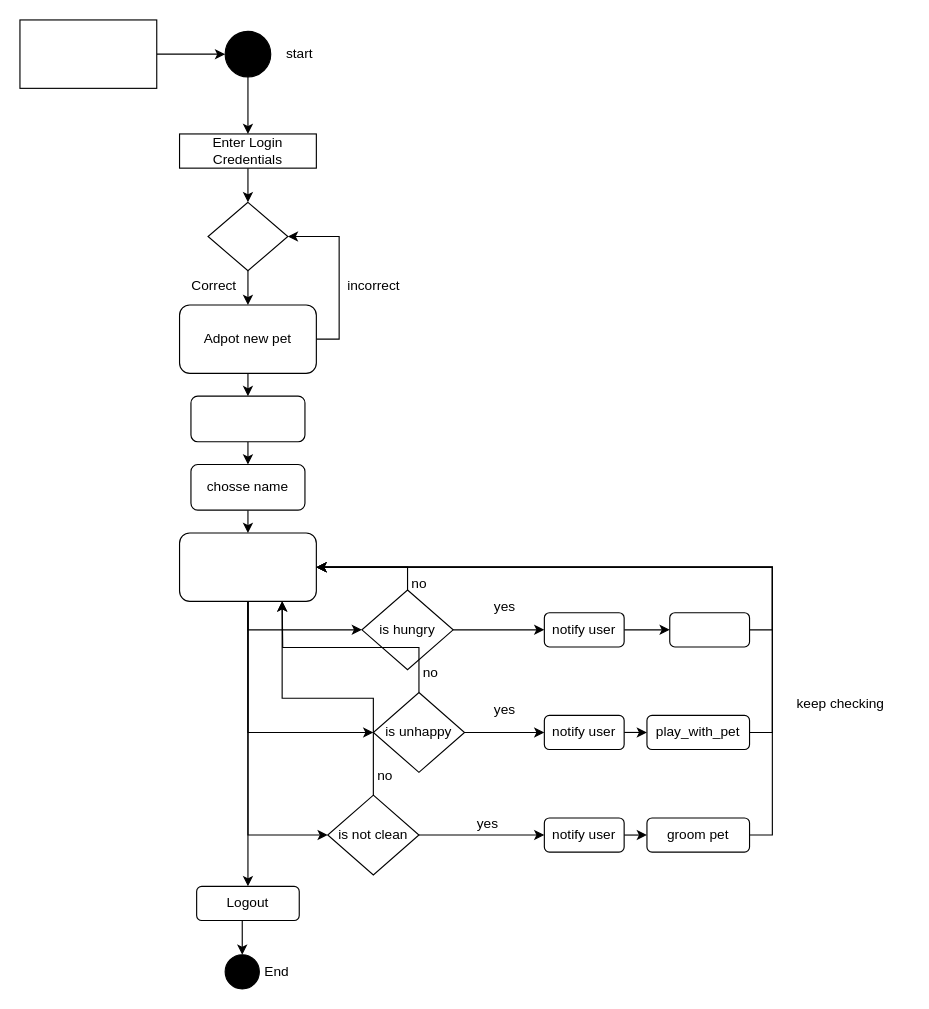
Some shapes in this 929 by 1009 pixel diagram are drawn without their labels. Here are the shapes that lost their labels. From the top down, the centre of each, then its label:
At [88,53]: "User Registered".
At [247,236]: "Login".
At [247,418]: "chosse species".
At [247,566]: "Check pet staus and health".
At [709,629]: "feed pet".
